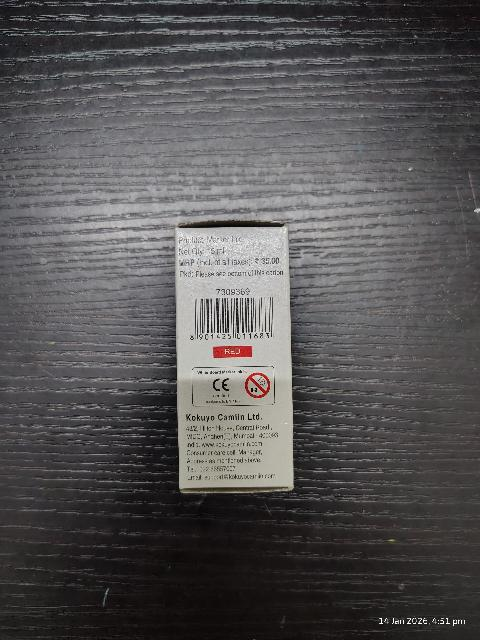camlin marker ink: (177, 227, 297, 492)
